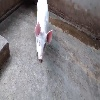heo: (30, 19, 55, 65)
